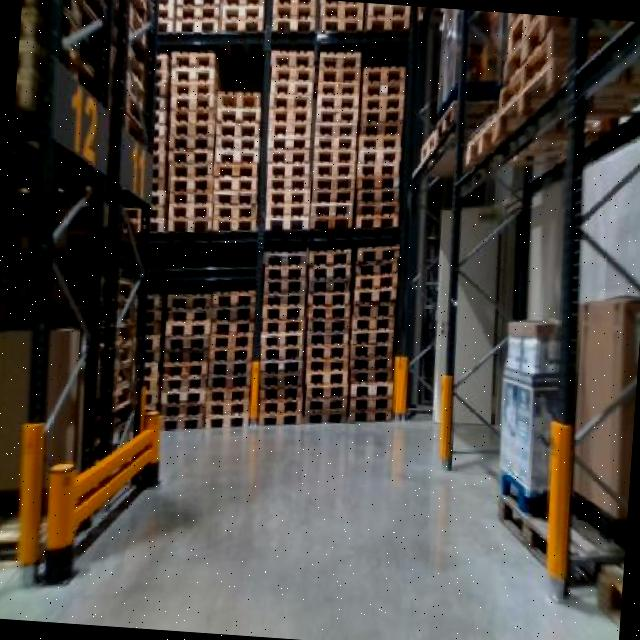pallet: (348, 270, 410, 297), (349, 318, 395, 351), (252, 376, 306, 404), (354, 241, 406, 269), (212, 276, 254, 310), (350, 376, 396, 404), (256, 365, 306, 390), (346, 352, 394, 376), (346, 402, 396, 425), (208, 328, 255, 352), (352, 295, 397, 320), (208, 396, 252, 421), (210, 300, 257, 323), (260, 409, 302, 431), (206, 410, 250, 431), (206, 358, 252, 378)
